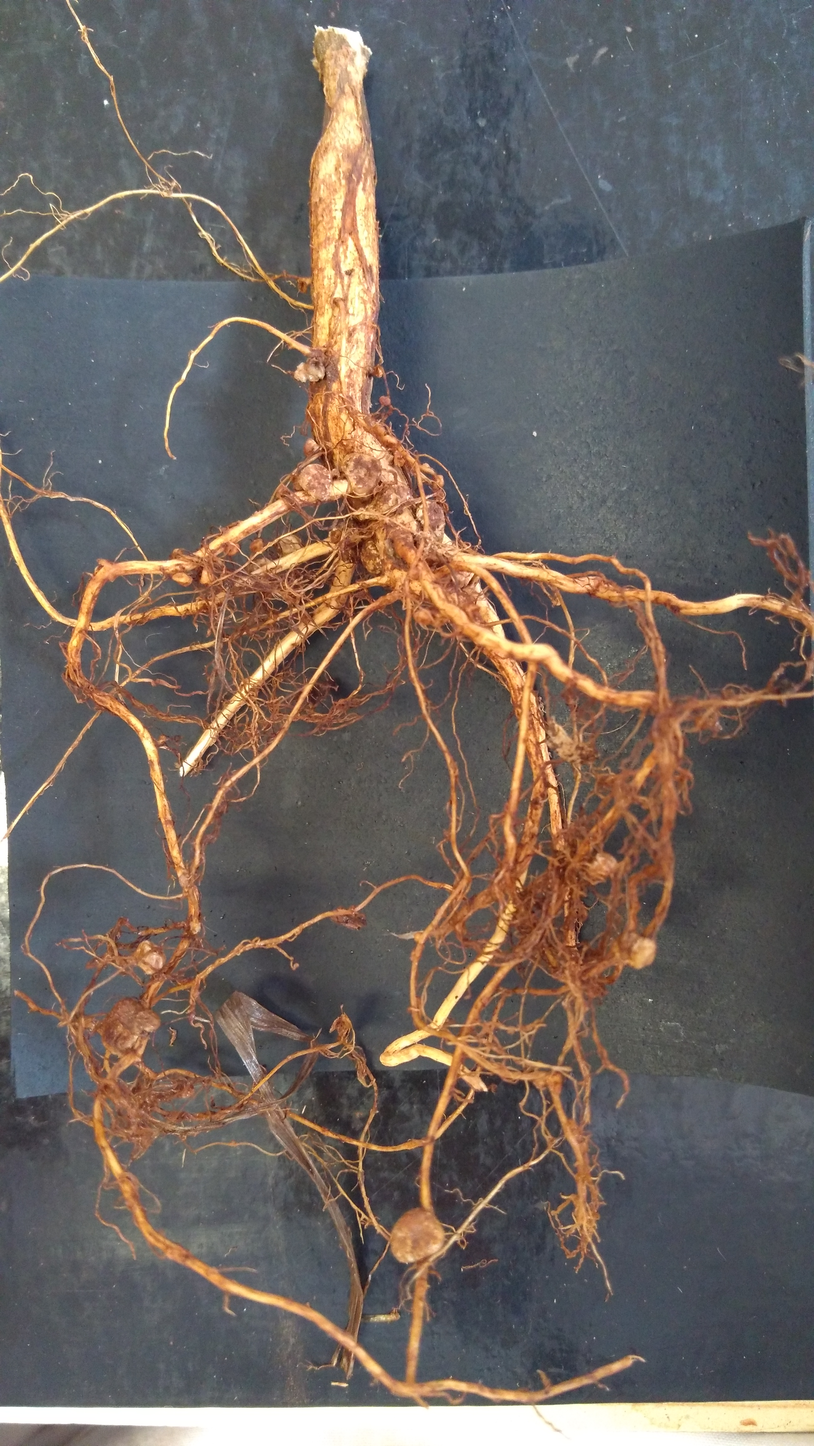nodule: (96, 994, 163, 1056), (388, 1204, 448, 1266), (338, 450, 384, 498), (357, 483, 411, 520), (295, 462, 336, 505), (414, 497, 447, 544), (133, 937, 165, 976), (628, 934, 660, 972), (587, 851, 620, 885), (358, 538, 386, 577), (292, 361, 330, 384), (274, 534, 307, 557), (136, 1008, 161, 1034), (301, 436, 322, 460), (168, 569, 194, 588), (247, 558, 275, 575), (224, 539, 244, 559), (413, 608, 433, 628), (197, 566, 217, 585), (247, 534, 265, 555), (429, 472, 447, 491), (179, 1080, 196, 1099), (327, 527, 343, 546), (295, 278, 310, 296), (370, 363, 385, 380), (378, 394, 394, 408), (393, 450, 406, 466)
